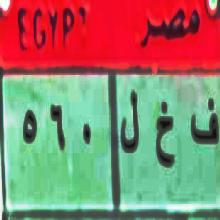0: (80, 113, 92, 149)
5: (21, 102, 38, 155)
6: (48, 95, 66, 155)
faa: (189, 93, 219, 152)
khaa: (155, 98, 175, 175)
laam: (119, 86, 141, 157)
